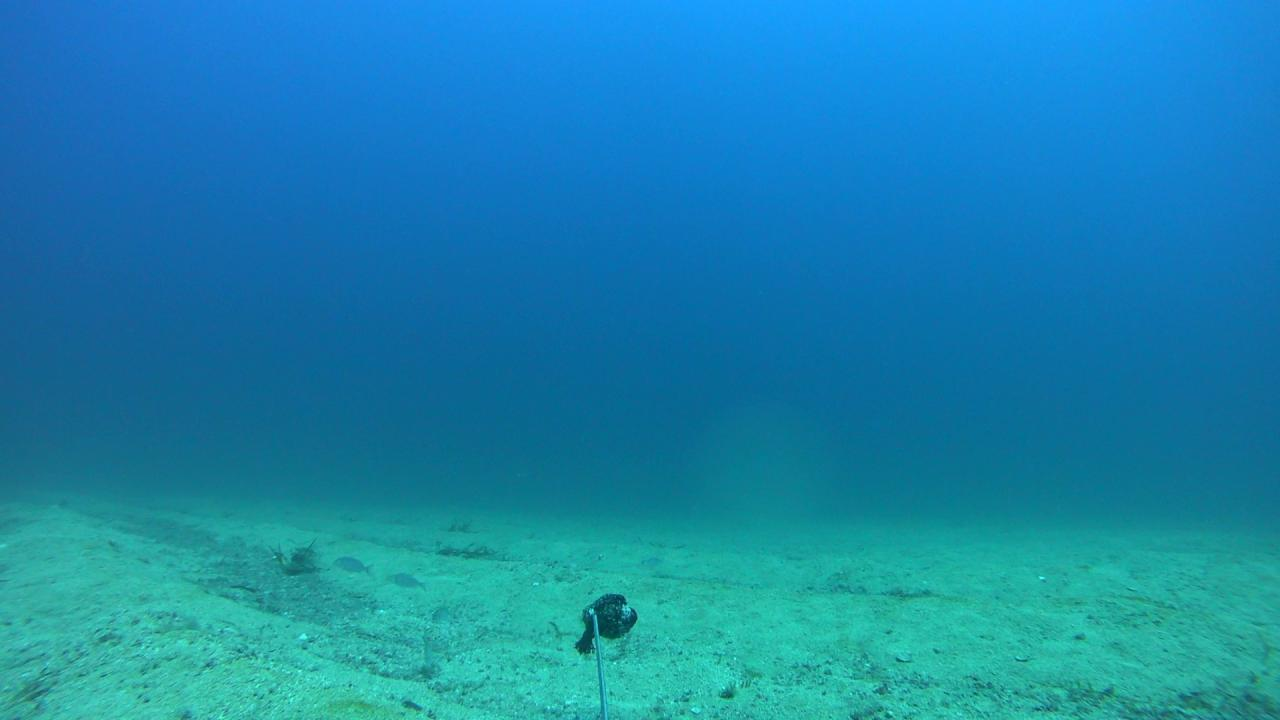pagellus: (331, 556, 375, 576), (390, 574, 433, 594)
